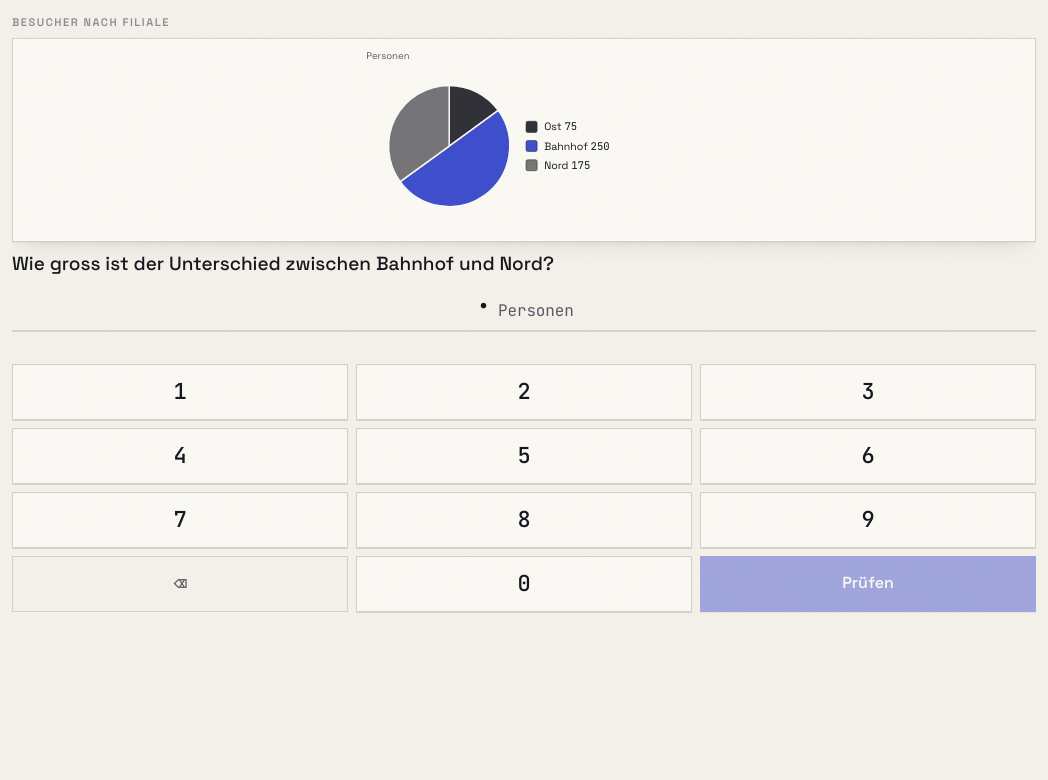
datenlesen play surface › clears the entry when the next item arrives
Click the button "7".
click(180, 520)  # box [12, 492, 348, 548]
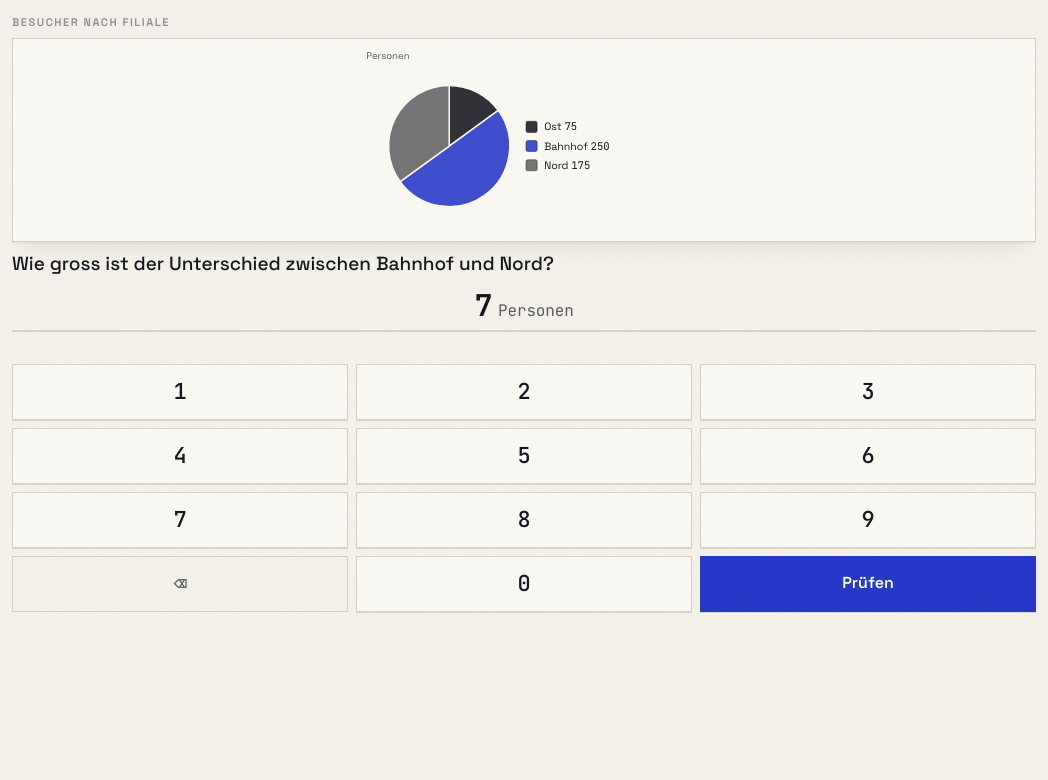
Result: the text with class "run__value" reads "7" at [474, 285, 492, 325]
Click the button "Prüfen".
click(868, 584)  # box [700, 556, 1036, 612]
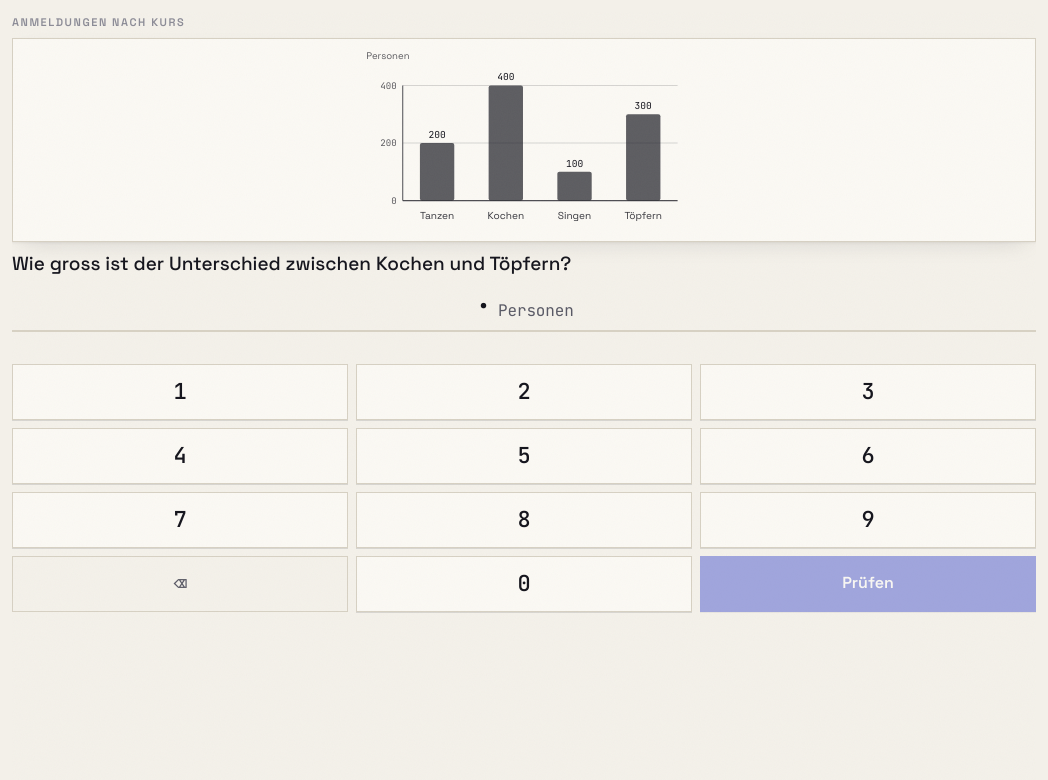
Expected: the message is empty, [12, 332, 1036, 364]
Result: the text with class "run__value" reads "·" at [474, 285, 492, 325]
